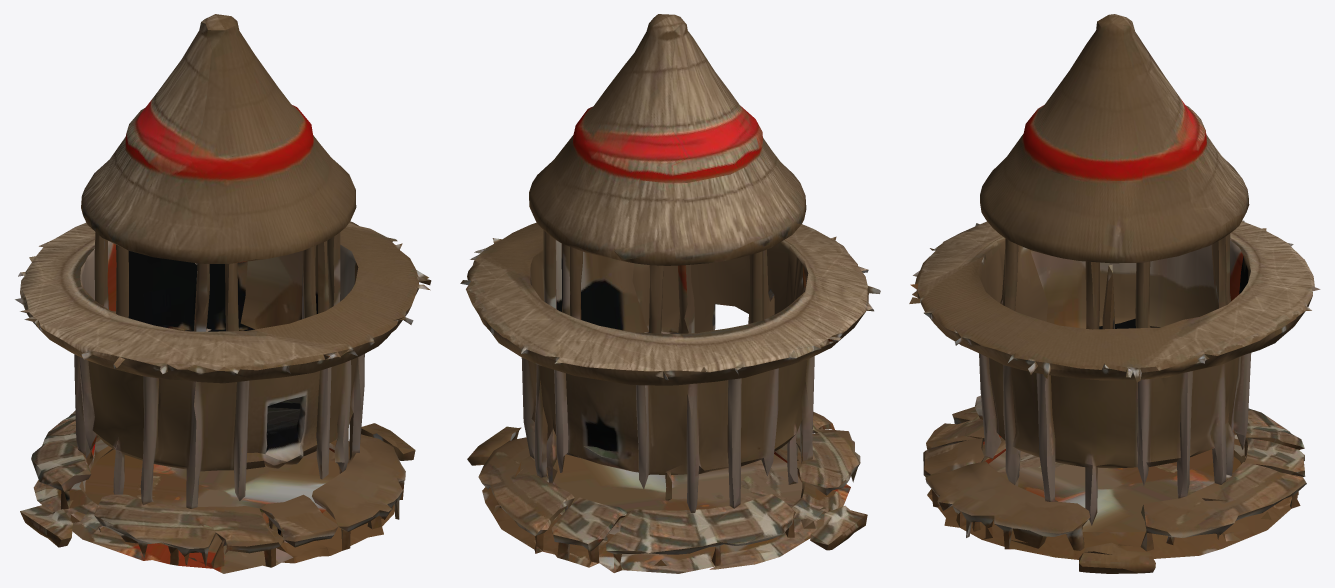
File: guaranies_aty_guasu.glb
3 views of the same model, side by side, from view 1: azimuth 30°, elevation 25°; view 2: azimuth 150°, elevation 25°; view 3: azimuth 270°, elevation 25° (orthographic).
Visible parts, largest first — view 1: geometry_0; view 2: geometry_0; view 3: geometry_0.
Part boxes in pixels (x1,y1,x2,y2): geometry_0: [15, 14, 431, 573]; geometry_0: [460, 14, 880, 573]; geometry_0: [909, 14, 1320, 573].
Size of the model in its own units: 3.4 by 4.2 by 3.32.
1 material, 1 textured.
